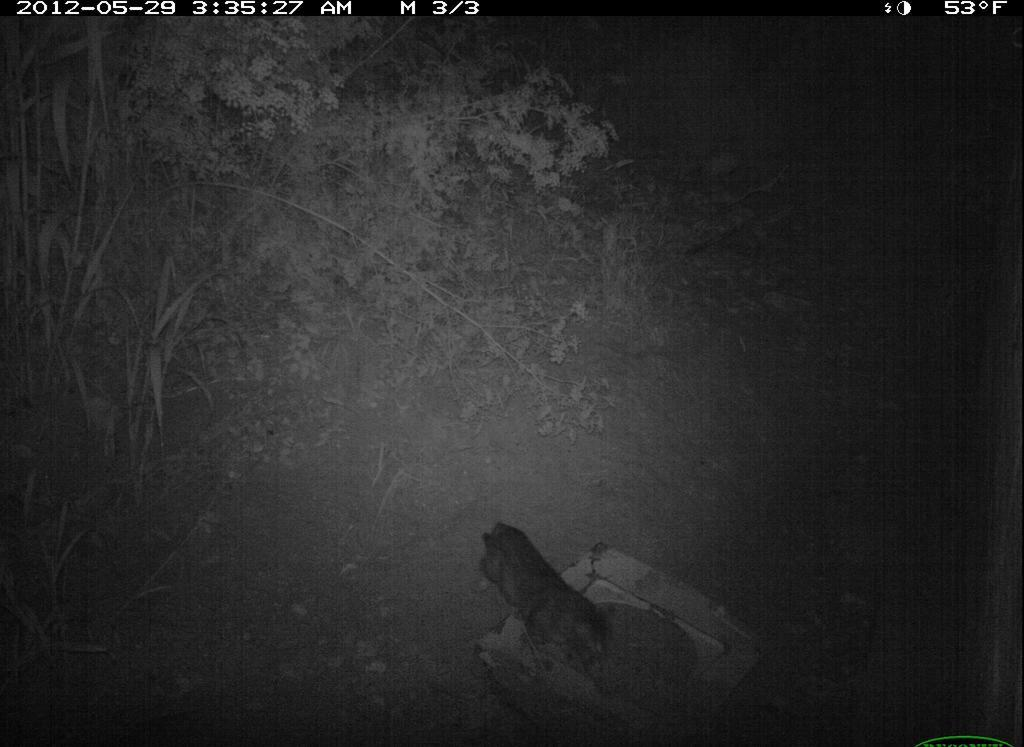cat: (468, 513, 630, 698)
